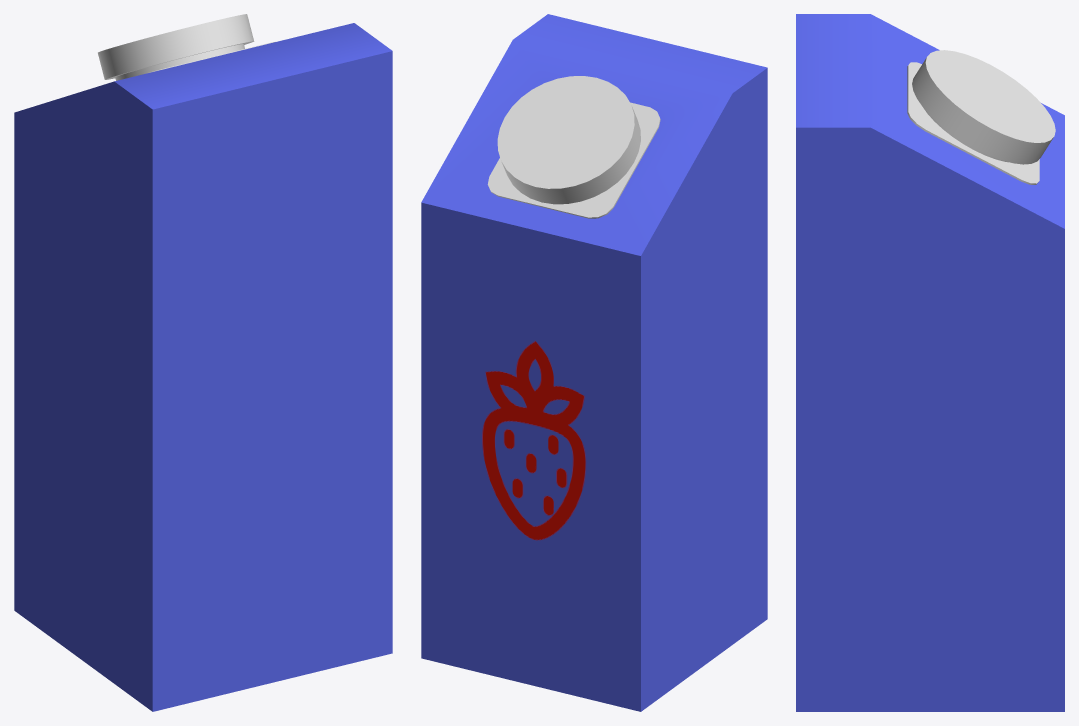
The model's file is Juice_straw.fbx.
The picture shows the model from 3 angles, left to right: view 1: azimuth 30°, elevation 25°; view 2: azimuth 150°, elevation 25°; view 3: azimuth 270°, elevation 25°; orthographic projection. The views are drawn at different scales.
Visible parts, largest first — view 1: Juice_straw; view 2: Juice_straw; view 3: Juice_straw.
Part boxes in pixels (x1=…): Juice_straw: x1=14, y1=14, x2=392, y2=711; Juice_straw: x1=421, y1=14, x2=767, y2=711; Juice_straw: x1=796, y1=14, x2=1064, y2=711.
Size of the model in its own units: 19.77 by 19.77 by 48.08.
